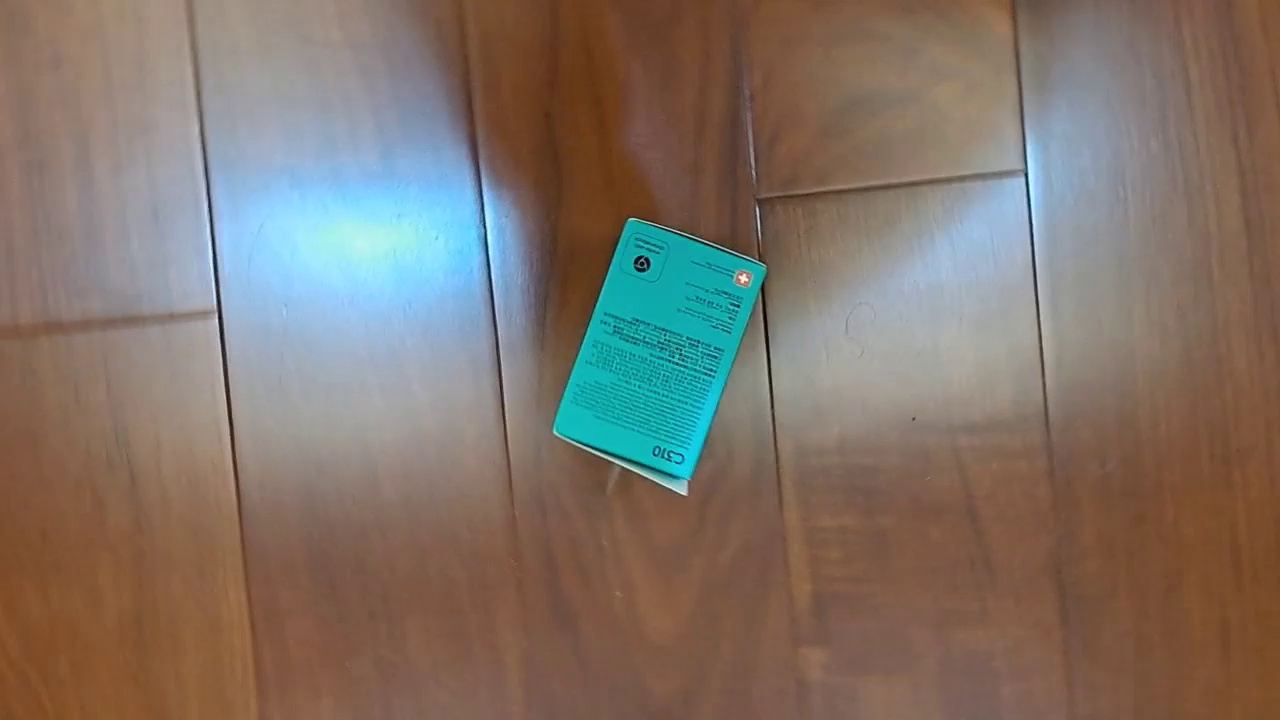webcam: (550, 214, 769, 498)
